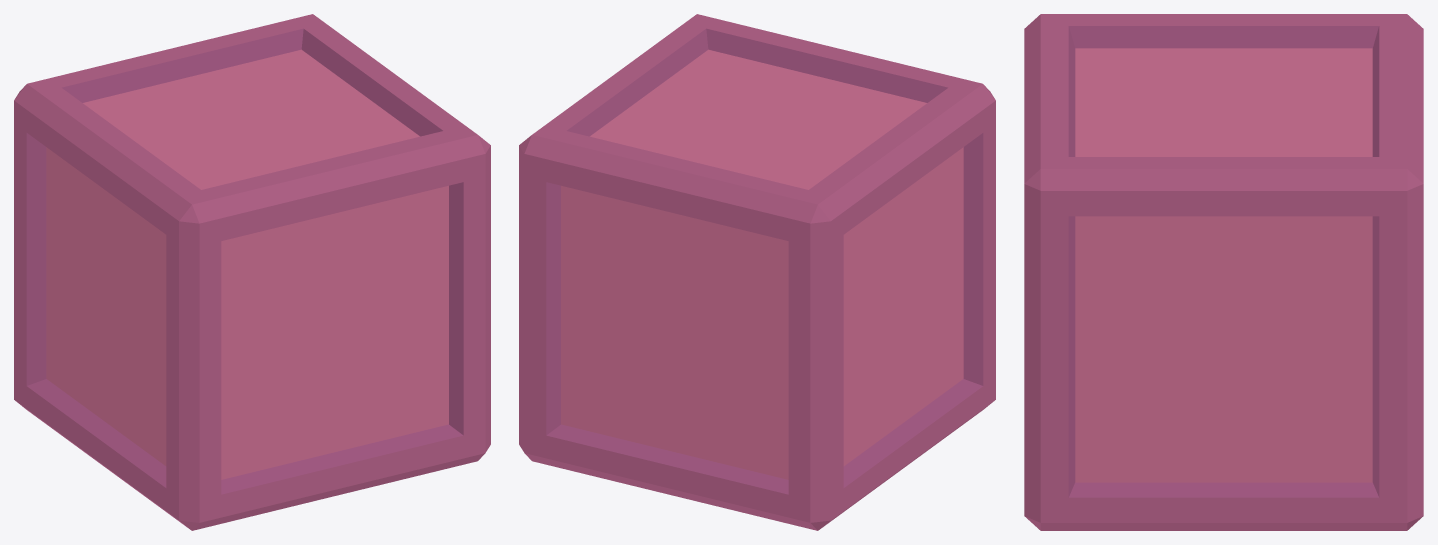
The picture shows the model from 3 angles, left to right: view 1: azimuth 30°, elevation 25°; view 2: azimuth 150°, elevation 25°; view 3: azimuth 270°, elevation 25°; orthographic projection. The views are drawn at different scales.
Visible parts, largest first — view 1: cube-c; view 2: cube-c; view 3: cube-c.
Boxes of the visible parts, left/top/right/bottom form: cube-c: left=14, top=14, right=490, bottom=530; cube-c: left=519, top=14, right=995, bottom=530; cube-c: left=1024, top=14, right=1423, bottom=530.
Size of the model in its own units: 1 by 1 by 1.
Materials: 1 (1 with a texture image).
